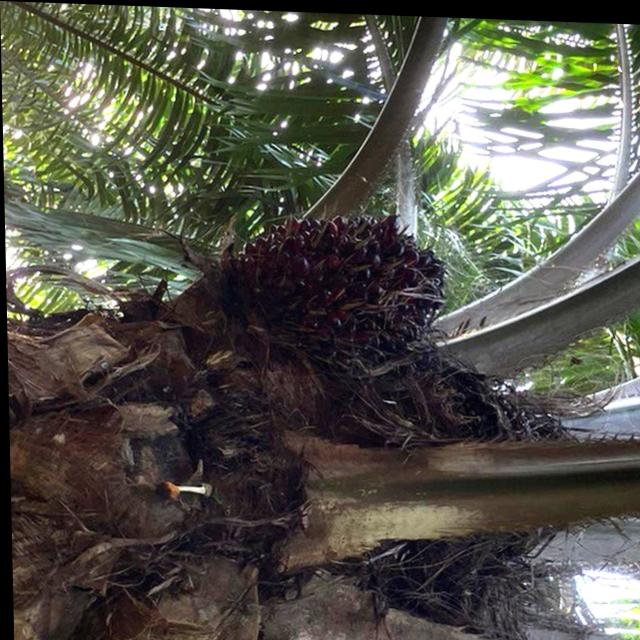ripe: (215, 201, 445, 352)
